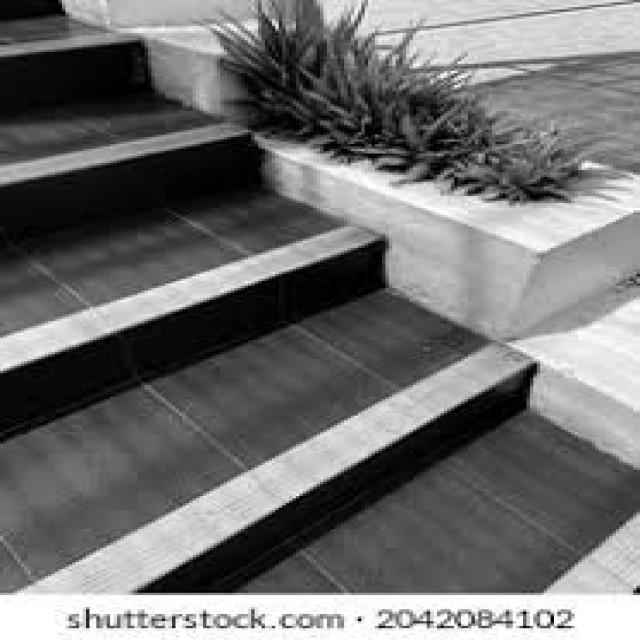stair: (0, 14, 546, 594)
